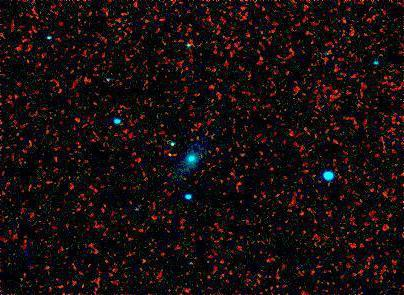star: (159, 133, 189, 163)
